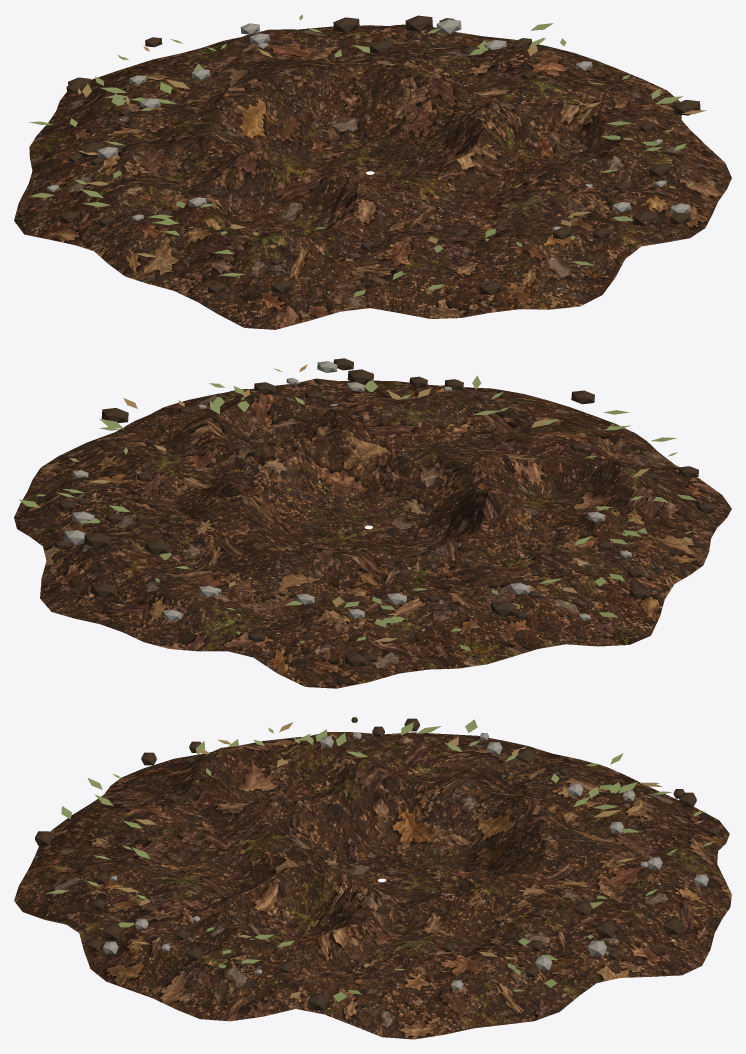
3 renders of one model, top to bottom at view 1: azimuth 30°, elevation 25°; view 2: azimuth 150°, elevation 25°; view 3: azimuth 270°, elevation 25°, orthographic.
Visible parts, largest first — view 1: amber_deposit_empty; view 2: amber_deposit_empty; view 3: amber_deposit_empty.
Part boxes in pixels (left/top/right/bottom): amber_deposit_empty: left=14, top=14, right=731, bottom=329; amber_deposit_empty: left=14, top=358, right=731, bottom=688; amber_deposit_empty: left=14, top=717, right=731, bottom=1039.
Size of the model in its own units: 6.78 by 0.7136 by 6.67.
4 materials, 1 textured.
